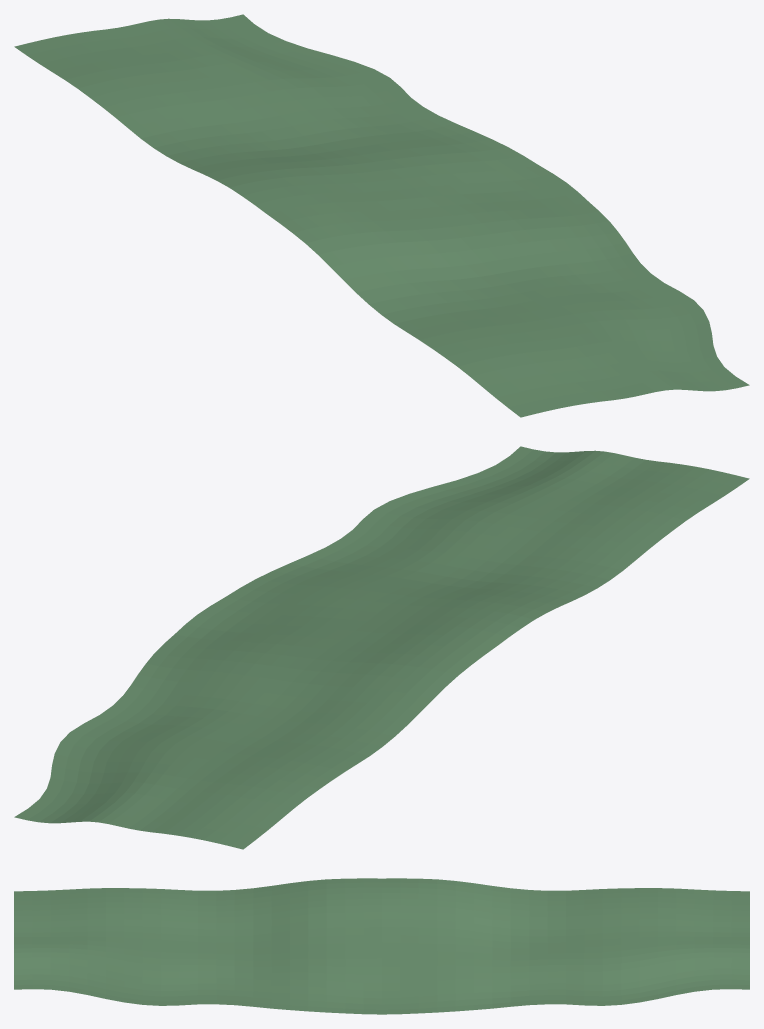
The model's file is Shore.fbx.
3 views of the same model, one above another, from view 1: azimuth 30°, elevation 25°; view 2: azimuth 150°, elevation 25°; view 3: azimuth 270°, elevation 25° (orthographic). The views are drawn at different scales.
Visible parts, largest first — view 1: Shore, Shore_Reverse; view 2: Shore_Reverse, Shore; view 3: Shore, Shore_Reverse.
Part boxes in pixels (x1,y1,x2,y2): Shore: [267, 182, 749, 417]; Shore_Reverse: [14, 14, 566, 214]; Shore_Reverse: [14, 614, 496, 849]; Shore: [197, 446, 749, 646]; Shore: [14, 878, 381, 1014]; Shore_Reverse: [382, 878, 749, 1014].
Size of the model in its own units: 16.21 by 2.2 by 47.52.
